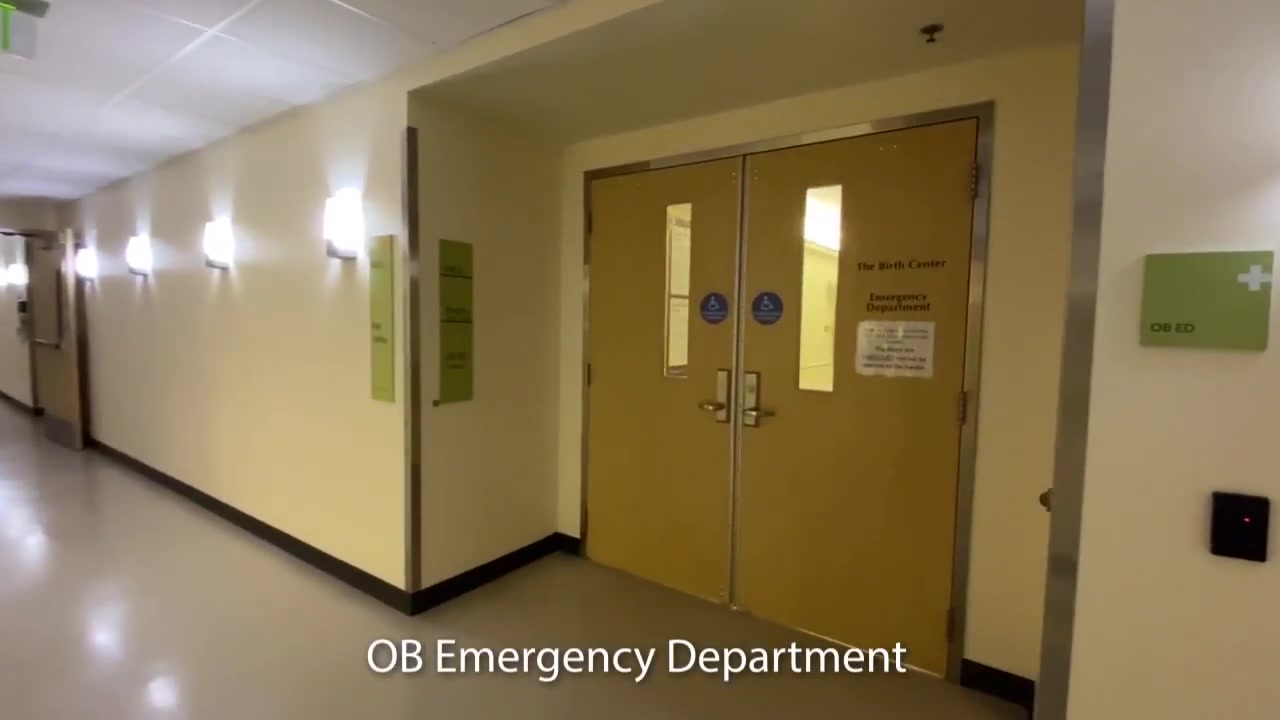door_handle: (696, 365, 734, 417), (744, 363, 774, 423)
push_latch: (30, 337, 61, 350)
